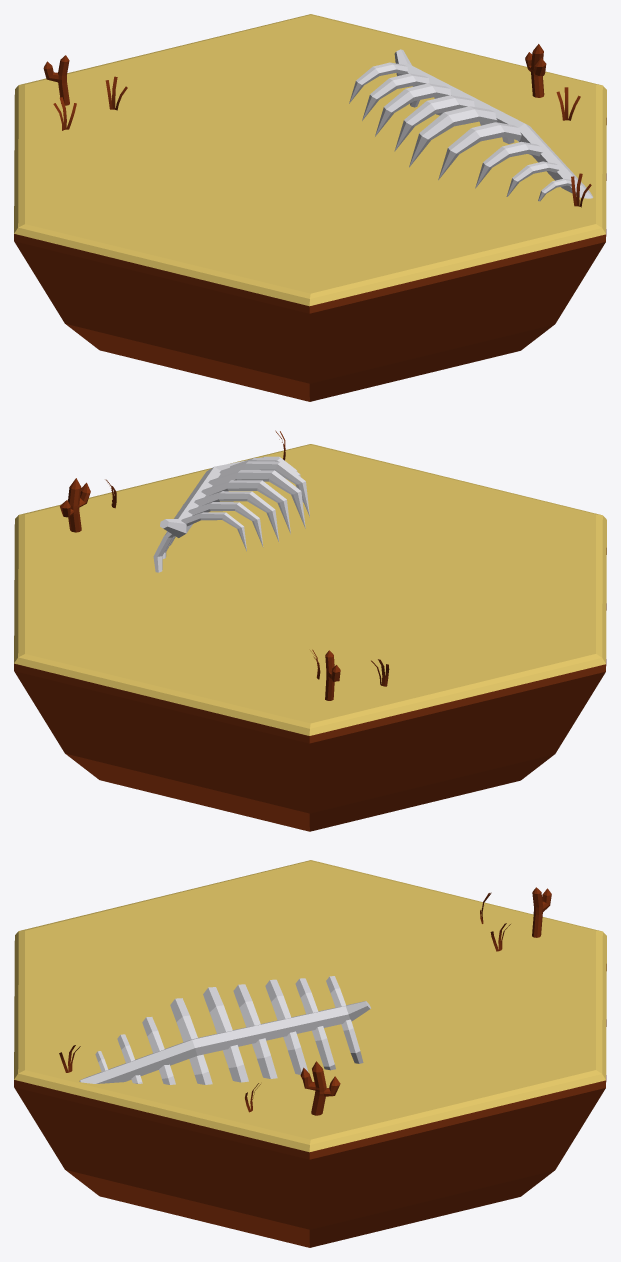
The model's file is Asset_Biome_Desert.fbx.
3 views of the same model, one above another, from view 1: azimuth 30°, elevation 25°; view 2: azimuth 150°, elevation 25°; view 3: azimuth 270°, elevation 25° (orthographic).
Parts seen in each view (by area): view 1: Asset_Tile_Desert, PolySurface_skeleton, PolySurface_cactus_02, PolySurface_cactus_01; view 2: Asset_Tile_Desert, PolySurface_skeleton, PolySurface_cactus_02; view 3: Asset_Tile_Desert, PolySurface_skeleton, PolySurface_cactus_02, PolySurface_cactus_01.
Boxes of the visible parts, <box> form: Asset_Tile_Desert: <box>14,14,606,401</box>; PolySurface_skeleton: <box>349,49,593,201</box>; PolySurface_cactus_02: <box>525,44,546,97</box>; PolySurface_cactus_01: <box>43,55,69,105</box>; Asset_Tile_Desert: <box>14,444,606,831</box>; PolySurface_skeleton: <box>153,456,309,572</box>; PolySurface_cactus_02: <box>60,478,90,532</box>; Asset_Tile_Desert: <box>14,860,606,1247</box>; PolySurface_skeleton: <box>79,976,370,1084</box>; PolySurface_cactus_02: <box>300,1061,340,1115</box>; PolySurface_cactus_01: <box>532,887,551,937</box>.
Bounding box in the file's own units: 436 × 154 × 378.
